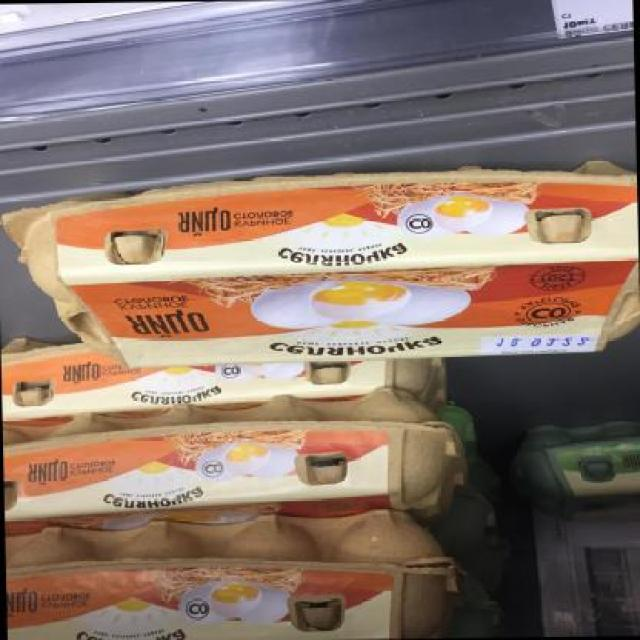Egg: (12, 160, 639, 370), (2, 402, 467, 530), (4, 512, 470, 639), (2, 337, 444, 418), (512, 409, 639, 528)
